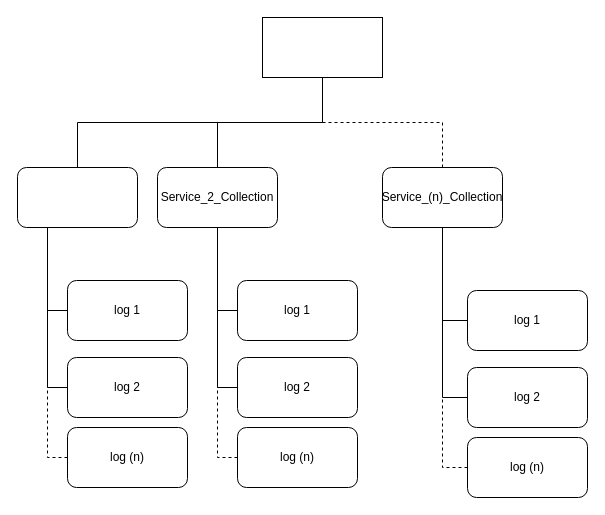
Image size: 605x515. Some labels were removed from this diagram. The shapes that lost their labels are listed below. From the top down, each one's centre as x and y in pixels, then its label:
At point 322,47: "log_db".
At point 77,197: "Service_1_Collection".
